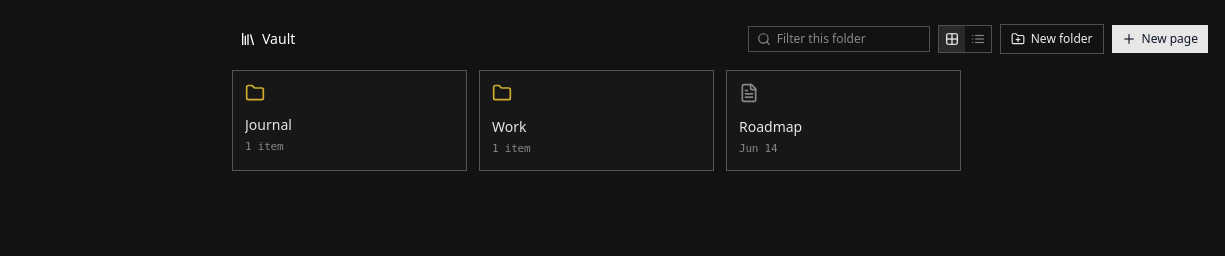
VaultBrowserPane - right-click menu › offers a folder the things a folder can do
Right-click the element showing "Work 1 item".
right_click(596, 120)  # box [479,70,714,170]
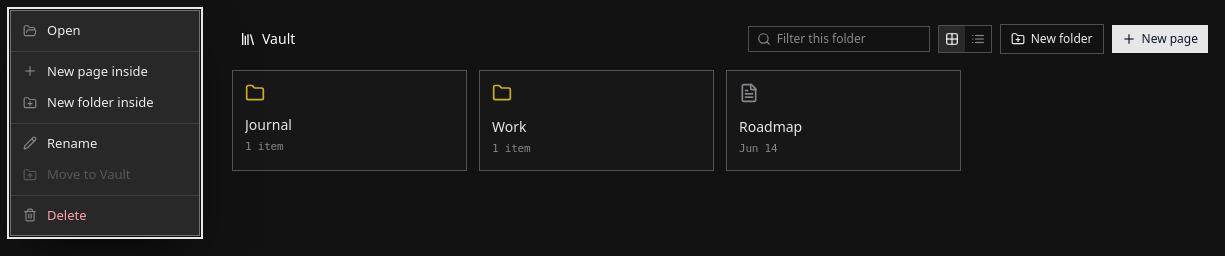
Result: the menu items read "Open", "New page inside", "New folder inside", "Rename", "Move to Vault", "Delete", in this order at [11,15,199,46]; [11,56,199,87]; [11,87,199,118]; [11,128,199,159]; [11,159,199,190]; [11,200,199,231]
